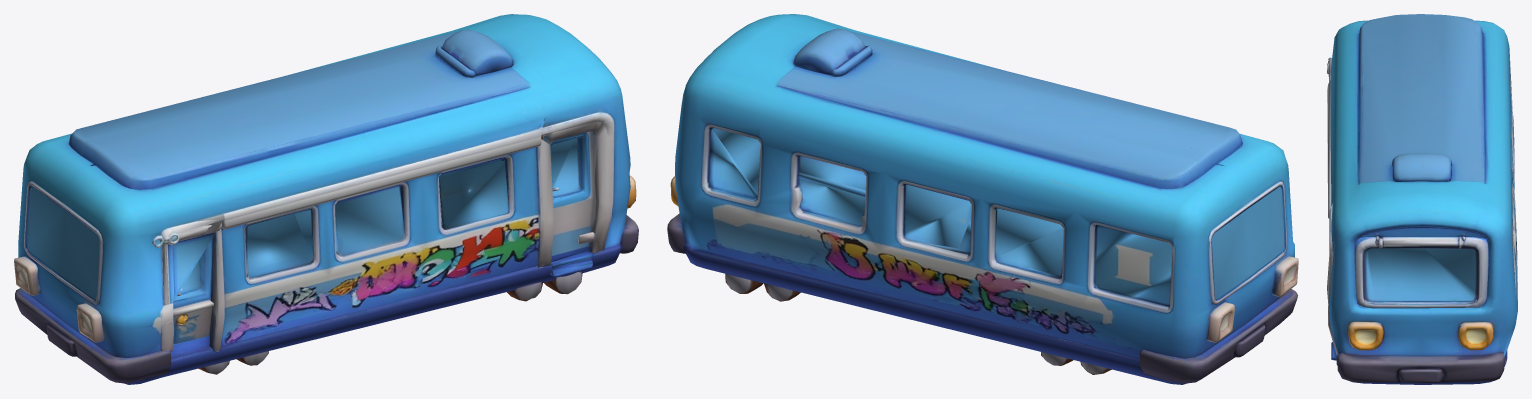
The model's file is train-blue.glb.
3 views of the same model, side by side, from view 1: azimuth 30°, elevation 25°; view 2: azimuth 150°, elevation 25°; view 3: azimuth 270°, elevation 25° (orthographic). The views are drawn at different scales.
Visible parts, largest first — view 1: tripo_node_b5418b01-b61d-4b7e-b632-47d2f2a0c929; view 2: tripo_node_b5418b01-b61d-4b7e-b632-47d2f2a0c929; view 3: tripo_node_b5418b01-b61d-4b7e-b632-47d2f2a0c929.
Part boxes in pixels (left/top/right/bottom): tripo_node_b5418b01-b61d-4b7e-b632-47d2f2a0c929: left=14, top=14, right=638, bottom=384; tripo_node_b5418b01-b61d-4b7e-b632-47d2f2a0c929: left=667, top=14, right=1298, bottom=384; tripo_node_b5418b01-b61d-4b7e-b632-47d2f2a0c929: left=1327, top=14, right=1517, bottom=384.
Bounding box in the file's own units: 0.998 × 0.4082 × 0.3496.
1 material, 1 textured.
